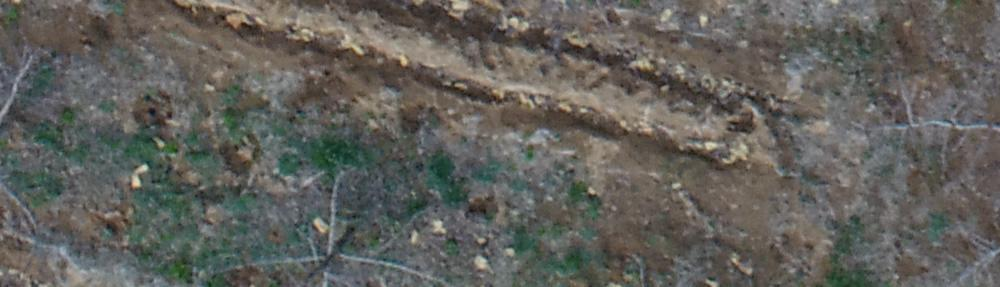apple: (221, 173, 454, 277)
